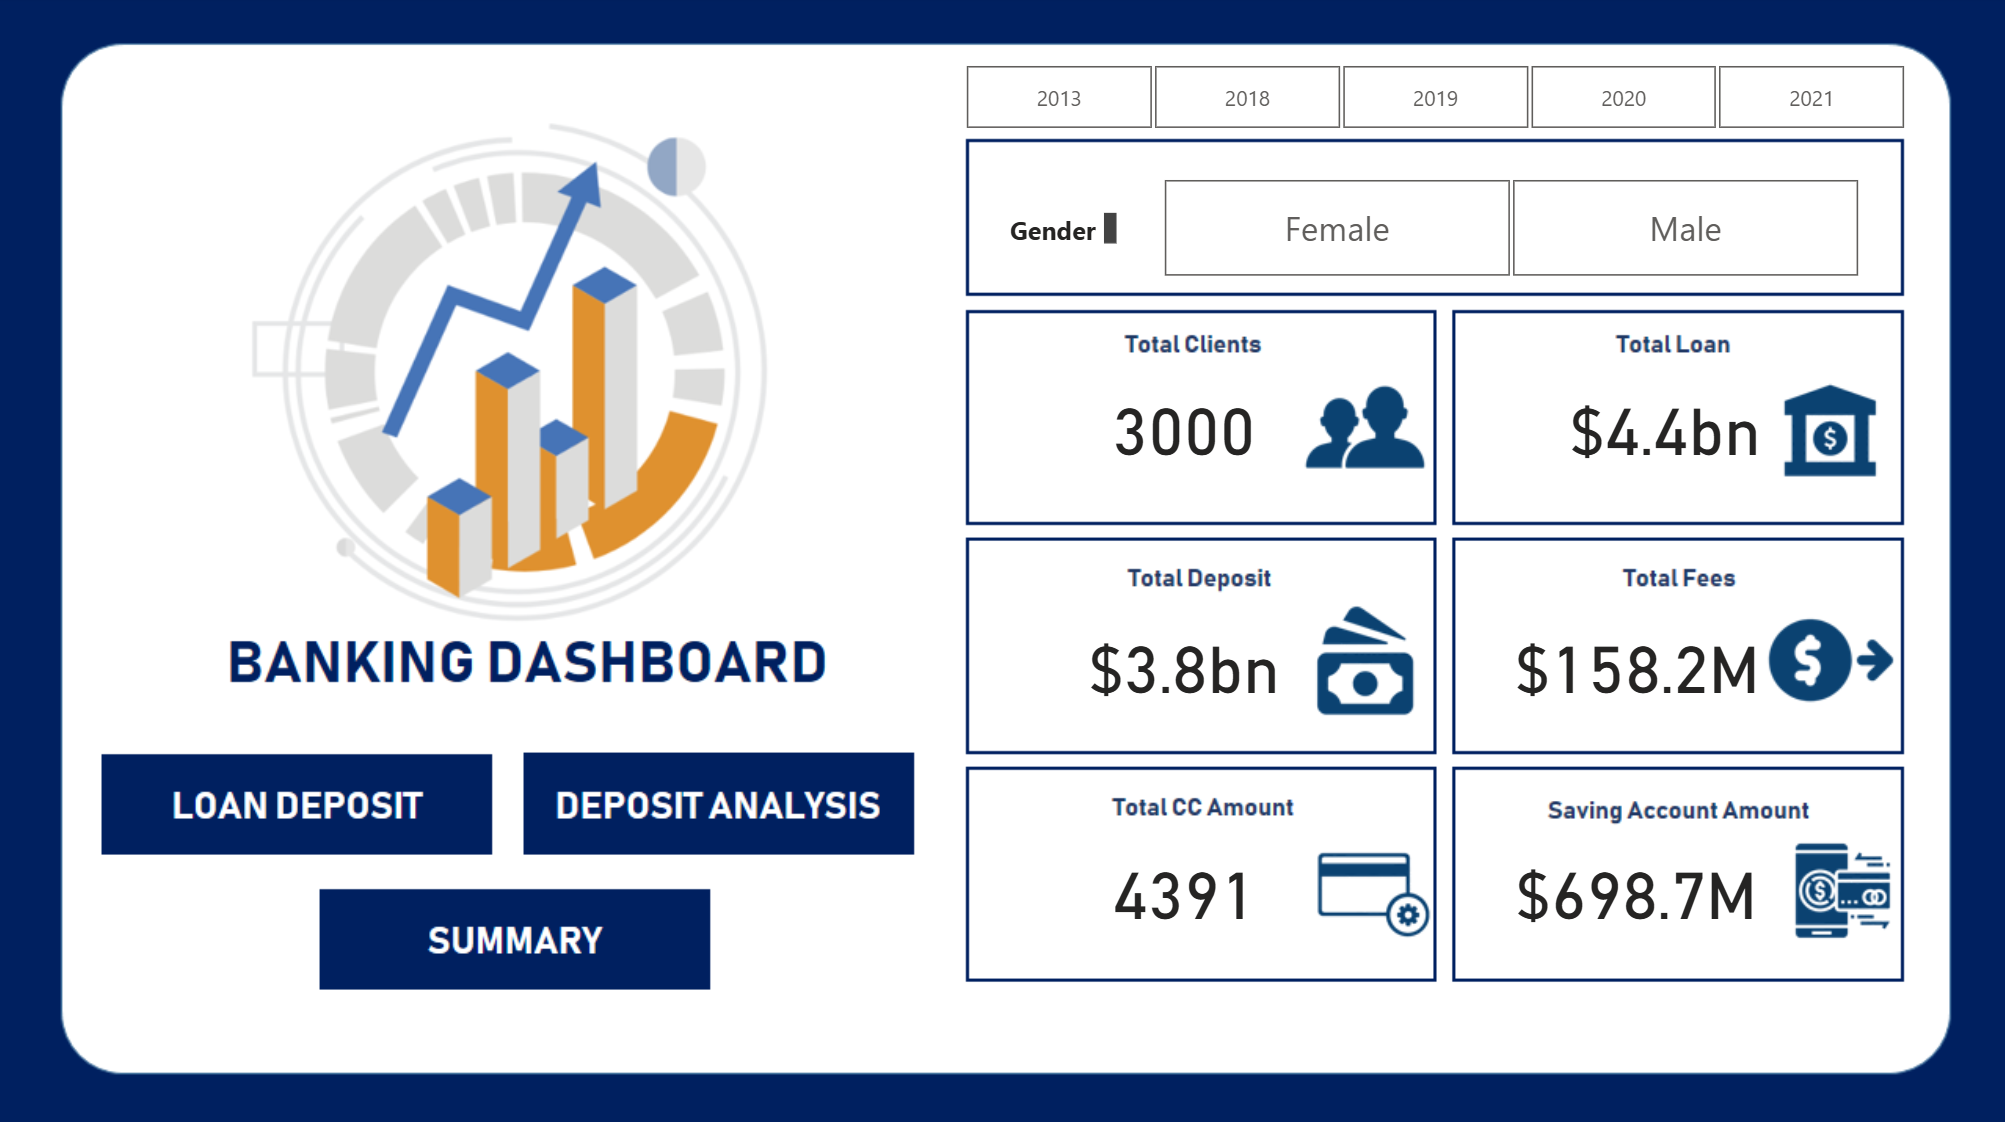

This screenshot's page, from the dashboard's own definition file:
{"tool":"powerbi","page":{"name":"Home","canvas":[1280,720],"ordinal":0},"visuals":[{"type":"card","fields":{"Values":["CountNonNull(report.client_id)"]},"box":[694.8,239.7,122.4,71.4],"z":0},{"type":"card","fields":{"Values":["report.loan"]},"box":[980.4,239.7,164.5,71.4],"z":1000},{"type":"card","fields":{"Values":["report.deposite"]},"box":[670.6,391.4,170.8,71.4],"z":2000},{"type":"textbox","box":[640,135.1,77.8,30.6],"z":3000},{"type":"slicer","fields":{"Values":["report.gender"]},"box":[717.8,112.2,492.1,75.2],"z":4000},{"type":"card","fields":{"Values":["Sum(report.amount_of_credit_cards)"]},"box":[670.6,535.5,170.8,71.4],"z":5000},{"type":"card","fields":{"Values":["Sum(report.saving_accounts)"]},"box":[948.5,535.5,191.2,71.4],"z":6000},{"type":"card","fields":{"Values":["report.fees"]},"box":[957.5,391.4,174.7,71.4],"z":7000},{"type":"slicer","fields":{"Values":["report.year_of_joining"]},"box":[591.6,39.5,647.6,53.5],"z":8000},{"type":"actionButton","box":[66.3,484.5,248.6,65],"z":9000},{"type":"actionButton","box":[332.7,484.5,248.6,65],"z":10000},{"type":"actionButton","box":[207.8,571.2,248.6,65],"z":11000}]}

Visuals, with their boxes in screenshot pixels (x1, y1, x2, y2), scaled from the page's 1280x720 canvas onto the 2005x1122 screenshot:
card - CountNonNull(report.client_id): [left=1088, top=374, right=1280, bottom=485]
card - report.loan: [left=1536, top=374, right=1793, bottom=485]
card - report.deposite: [left=1050, top=610, right=1318, bottom=721]
textbox: [left=1002, top=211, right=1124, bottom=258]
slicer - report.gender: [left=1124, top=175, right=1895, bottom=292]
card - Sum(report.amount_of_credit_cards): [left=1050, top=834, right=1318, bottom=946]
card - Sum(report.saving_accounts): [left=1486, top=834, right=1785, bottom=946]
card - report.fees: [left=1500, top=610, right=1773, bottom=721]
slicer - report.year_of_joining: [left=927, top=62, right=1941, bottom=145]
actionButton: [left=104, top=755, right=493, bottom=856]
actionButton: [left=521, top=755, right=911, bottom=856]
actionButton: [left=325, top=890, right=715, bottom=991]
